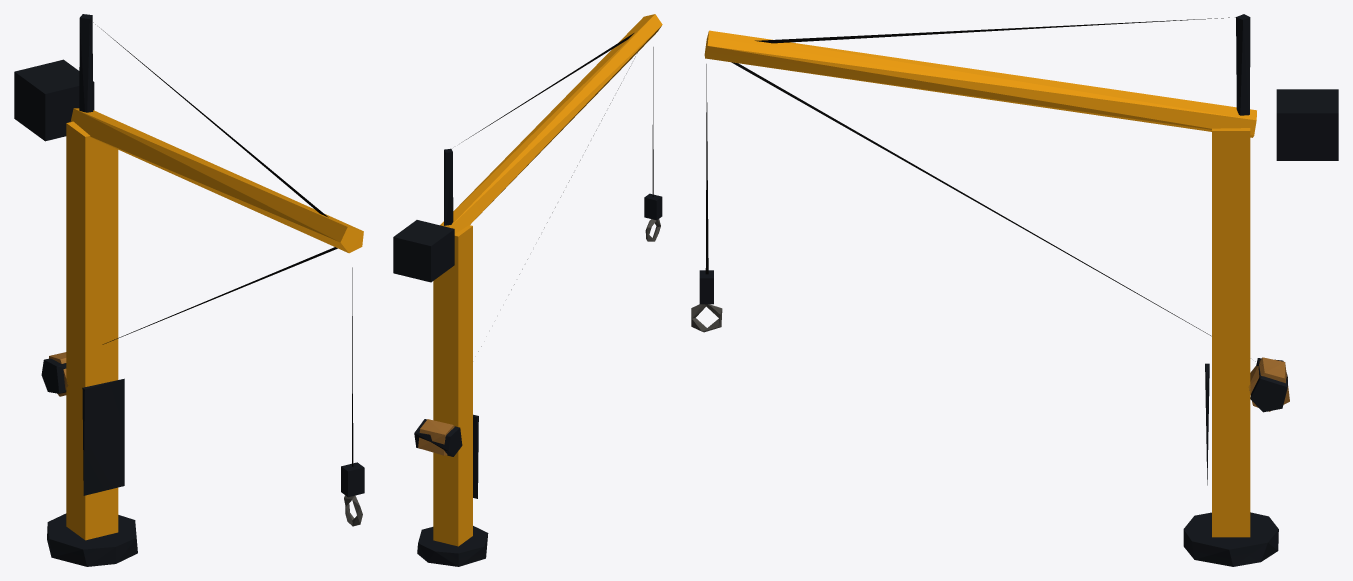
File: tb_upg_salvage_crane.three-web-toon.lod50.glb
3 views of the same model, side by side, from view 1: azimuth 30°, elevation 25°; view 2: azimuth 150°, elevation 25°; view 3: azimuth 270°, elevation 25° (orthographic). The views are drawn at different scales.
Parts seen in each view (by area): view 1: salvage_crane_mesh_lod; view 2: salvage_crane_mesh_lod; view 3: salvage_crane_mesh_lod.
Boxes of the visible parts, x1,y1,x2,y2 form: salvage_crane_mesh_lod: (14, 14, 364, 566); salvage_crane_mesh_lod: (393, 14, 662, 566); salvage_crane_mesh_lod: (691, 14, 1338, 566).
Bounding box in the file's own units: 0.4079 × 2.45 × 2.71.
